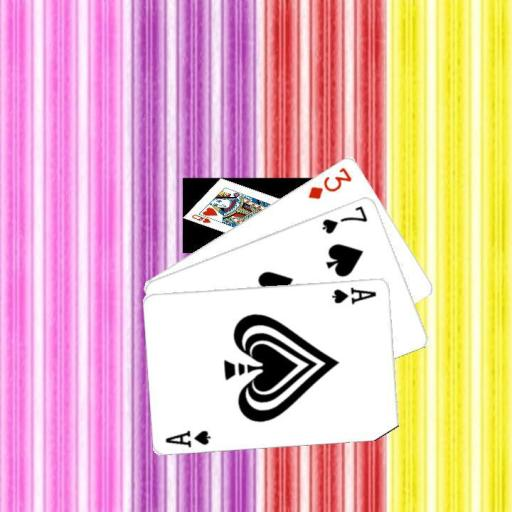3D: (305, 164, 354, 201)
7S: (319, 202, 369, 235)
AS: (162, 427, 213, 449), (330, 283, 379, 305)
